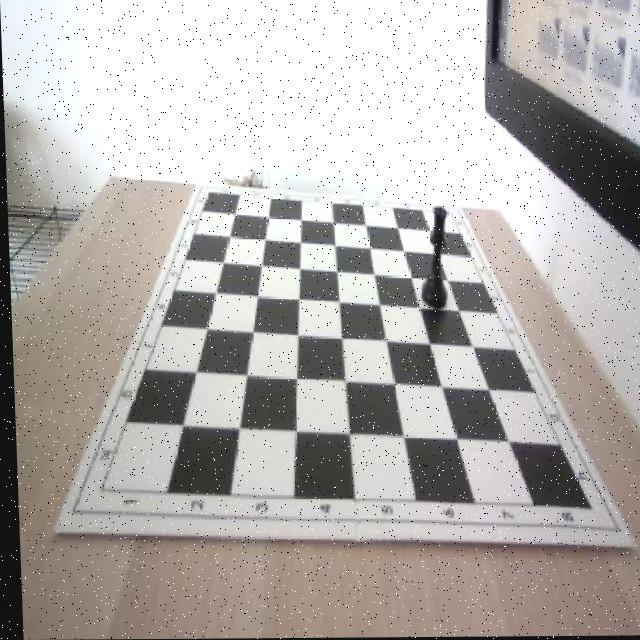black-pawn: (415, 205, 450, 308)
